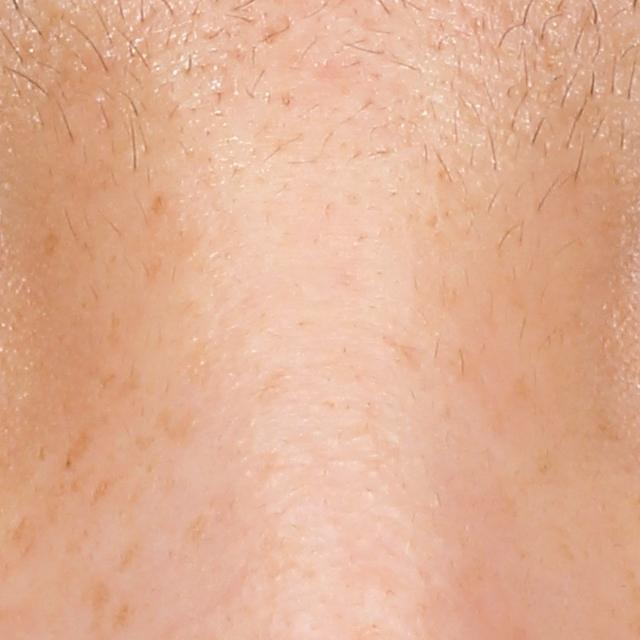melasma: (57, 421, 95, 478), (114, 537, 143, 578), (41, 228, 61, 261), (110, 597, 128, 632)
